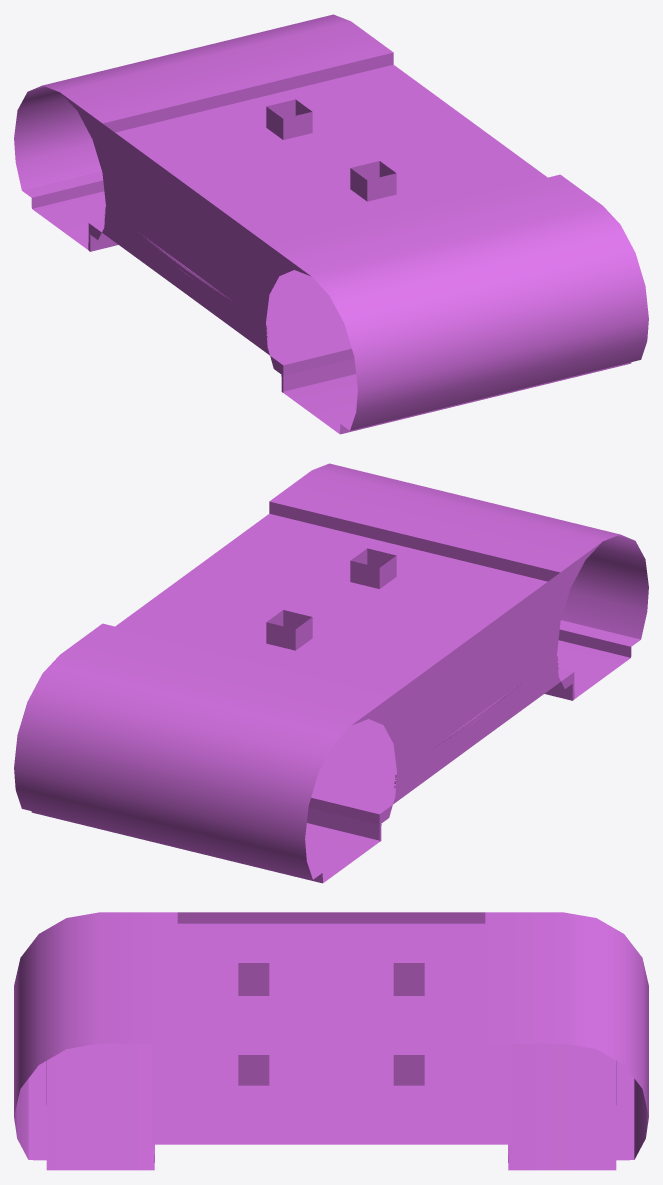
The model's file is PlatformEdges.fbx.
3 views of the same model, one above another, from view 1: azimuth 30°, elevation 25°; view 2: azimuth 150°, elevation 25°; view 3: azimuth 270°, elevation 25° (orthographic). The views are drawn at different scales.
Visible parts, largest first — view 1: PLatformEdge; view 2: PLatformEdge; view 3: PLatformEdge.
Boxes of the visible parts, <box> form: PLatformEdge: <box>14,14,648,434</box>; PLatformEdge: <box>14,463,648,883</box>; PLatformEdge: <box>14,912,648,1170</box>.
Size of the model in its own units: 10.02 by 4.81 by 20.46.
